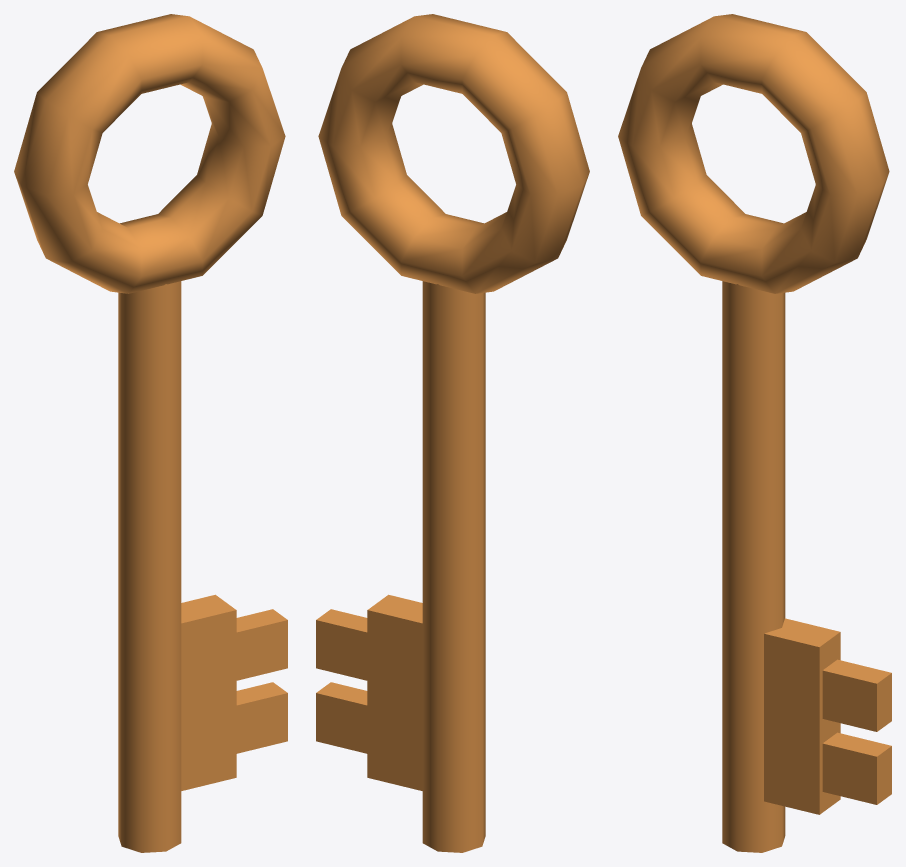
The model's file is Key.fbx.
3 renders of one model, left to right at view 1: azimuth 30°, elevation 25°; view 2: azimuth 150°, elevation 25°; view 3: azimuth 330°, elevation 25°, orthographic.
Parts seen in each view (by area): view 1: Key; view 2: Key; view 3: Key.
Part boxes in pixels (bbox=[...]): Key: bbox=[14, 14, 287, 852]; Key: bbox=[316, 14, 589, 852]; Key: bbox=[618, 14, 891, 852].
Size of the model in its own units: 0.1493 by 0.4478 by 0.0448.
